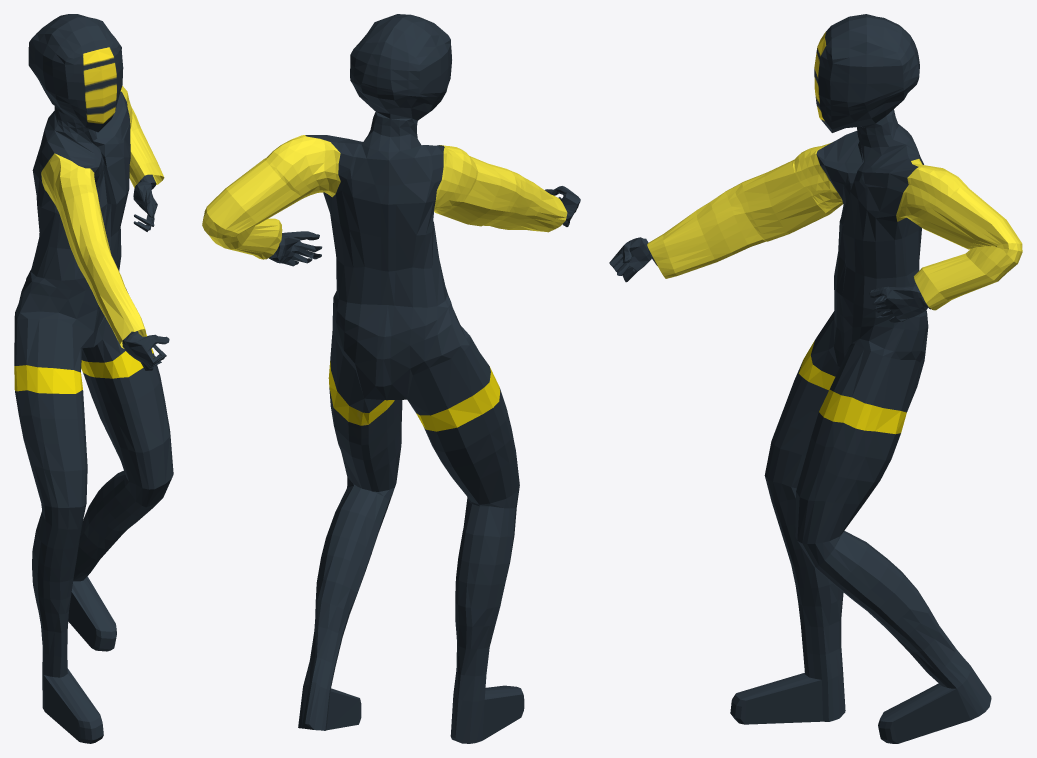
File: Sentry_WB_000019.obj
3 views of the same model, side by side, from view 1: azimuth 30°, elevation 25°; view 2: azimuth 150°, elevation 25°; view 3: azimuth 270°, elevation 25° (orthographic). The views are drawn at different scales.
Parts seen in each view (by area): view 1: Cube; view 2: Cube; view 3: Cube.
Part boxes in pixels (x1,y1,x2,y2): Cube: (14,14,173,743); Cube: (202,14,580,743); Cube: (609,14,1022,743).
Size of the model in its own units: 1.16 by 3.84 by 1.98.
